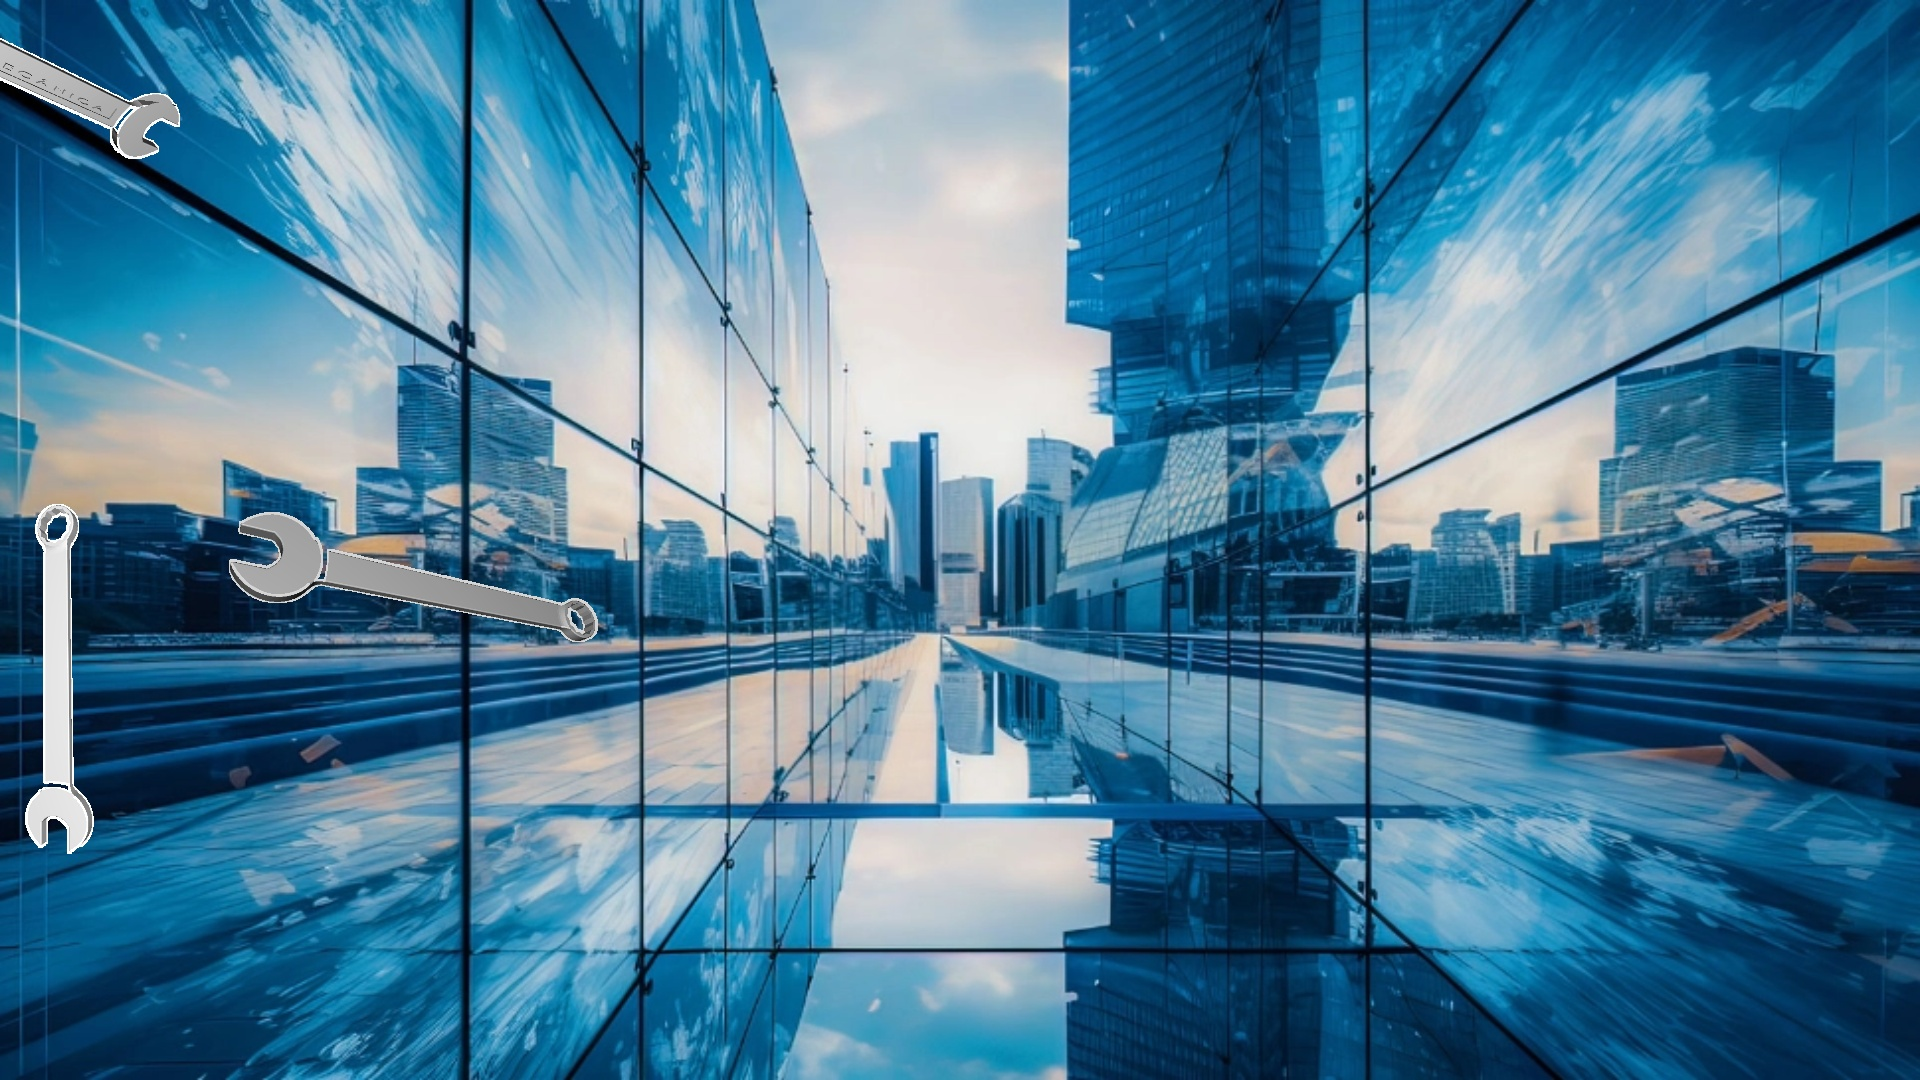Mixed Key: (229, 512, 597, 641), (25, 504, 94, 853), (0, 38, 179, 158)
